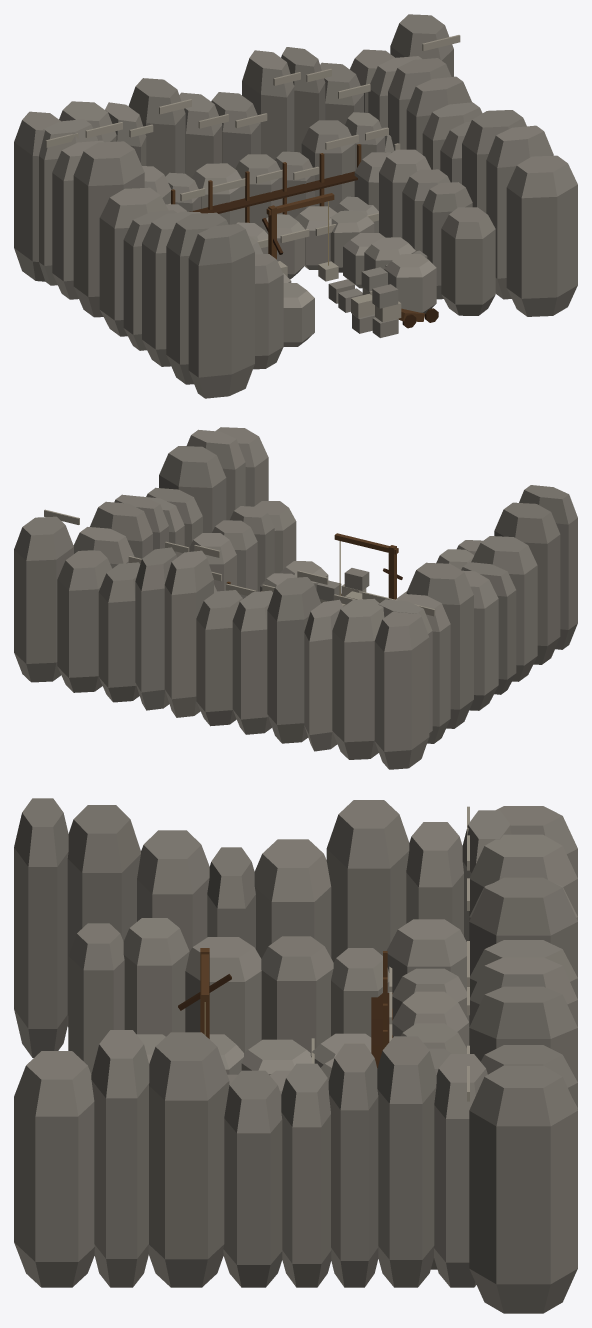
The model's file is landmark_abandoned_quarry.glb.
3 renders of one model, top to bottom at view 1: azimuth 30°, elevation 25°; view 2: azimuth 150°, elevation 25°; view 3: azimuth 270°, elevation 25°, orthographic. The views are drawn at different scales.
Parts seen in each view (by area): view 1: landmark_abandoned_quarry; view 2: landmark_abandoned_quarry; view 3: landmark_abandoned_quarry.
Boxes of the visible parts, x1,y1,x2,y2 form: landmark_abandoned_quarry: [14, 14, 577, 398]; landmark_abandoned_quarry: [14, 427, 577, 769]; landmark_abandoned_quarry: [14, 798, 577, 1313].
Size of the model in its own units: 45.3 by 16.5 by 36.3.
